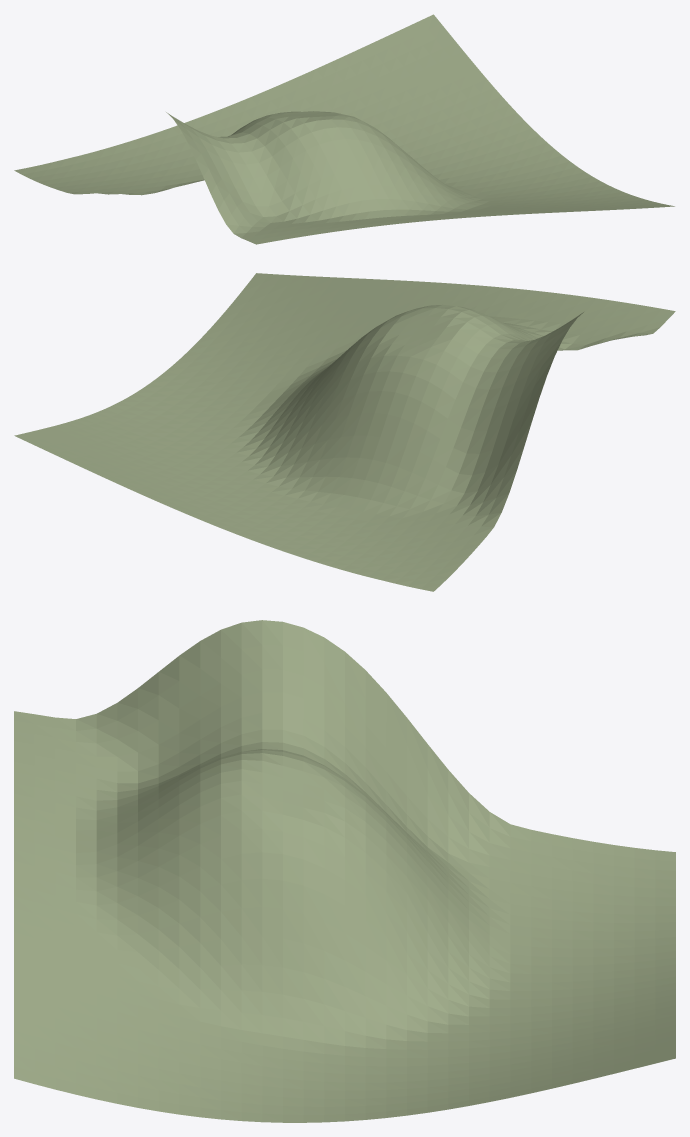
File: expanse-6-7.glb
3 views of the same model, one above another, from view 1: azimuth 30°, elevation 25°; view 2: azimuth 150°, elevation 25°; view 3: azimuth 270°, elevation 25° (orthographic). The views are drawn at different scales.
Visible parts, largest first — view 1: expanse-6-7; view 2: expanse-6-7; view 3: expanse-6-7.
Boxes of the visible parts, x1,y1,x2,y2 form: expanse-6-7: (14,14,674,244); expanse-6-7: (14,273,675,591); expanse-6-7: (14,620,675,1122).
Size of the model in its own units: 256 by 99.7 by 256.
